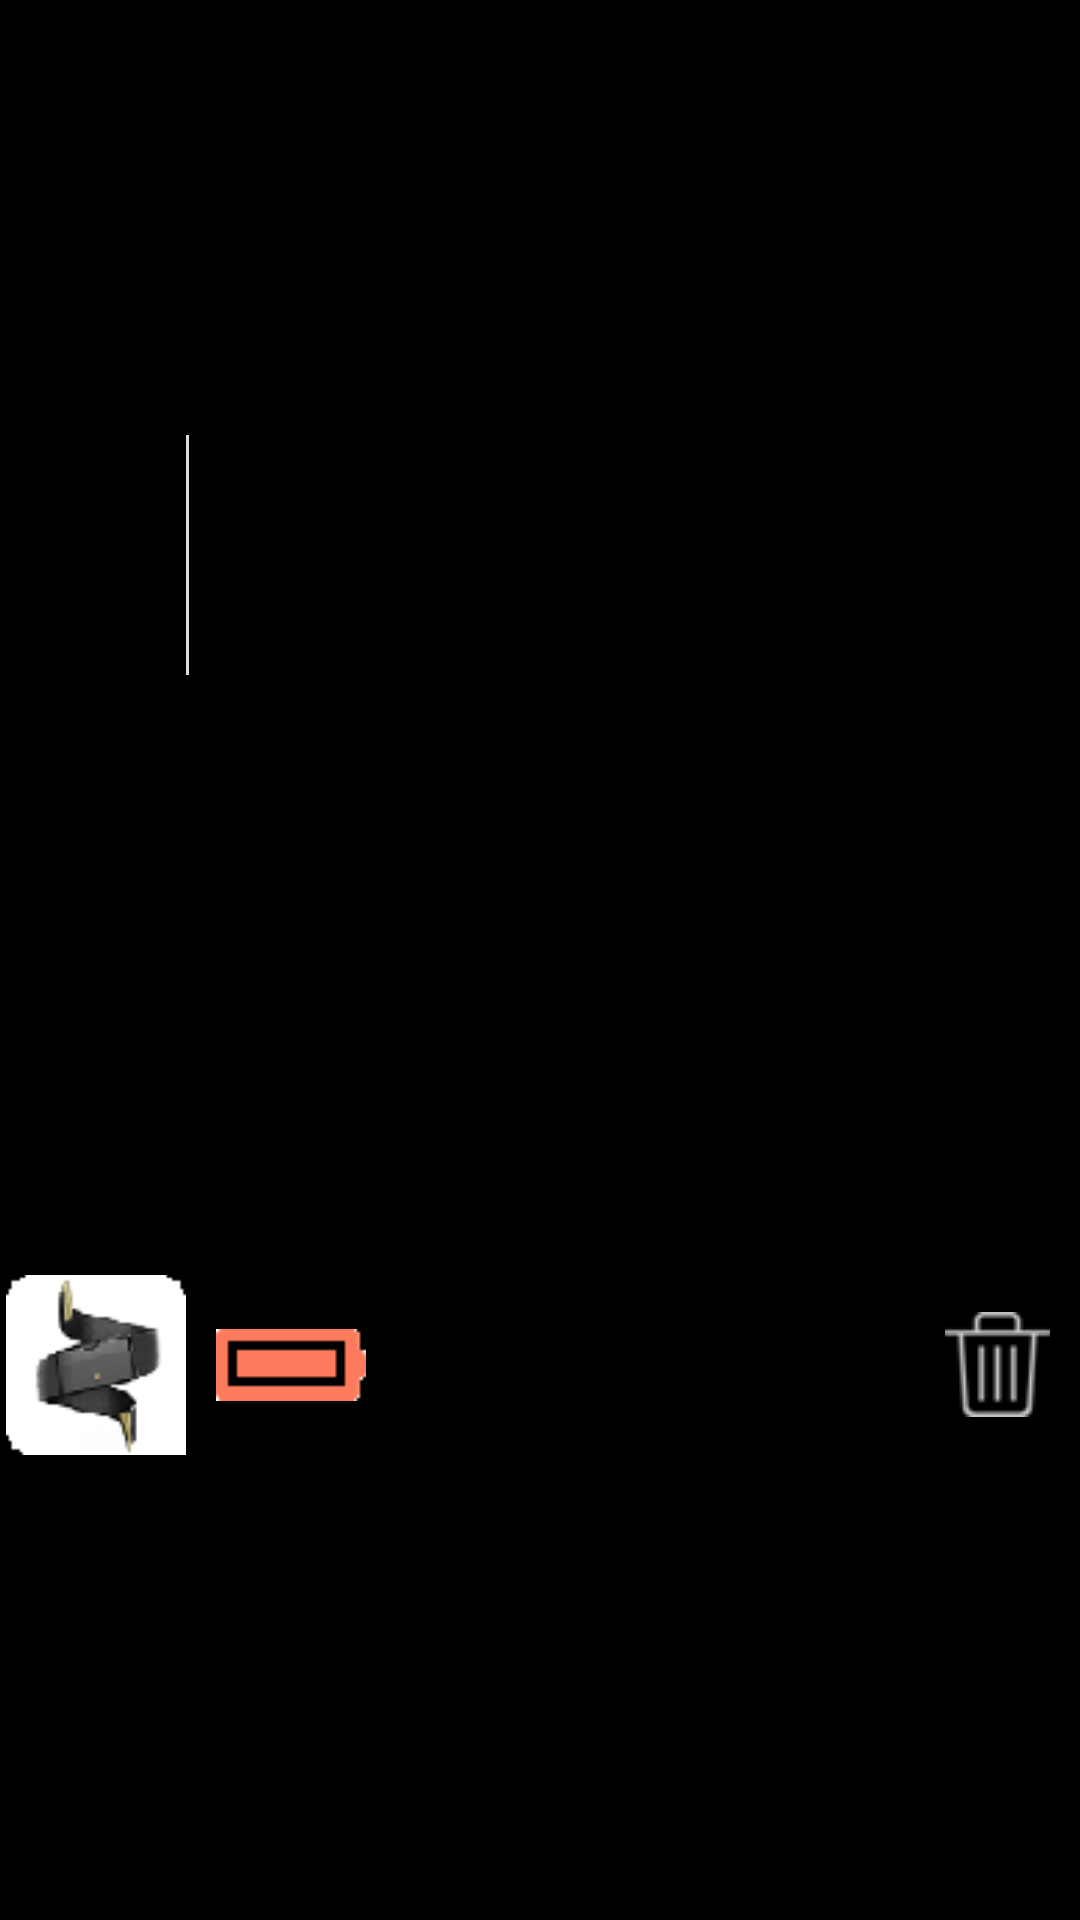

Named icons in this screenshot (1080w x 1920h) and their bounding boxes, (x1, y1, x2, y2):
belt: (6, 1275, 186, 1455)
delete: (945, 1312, 1050, 1417)
fullelectricity: (216, 1329, 366, 1401)
